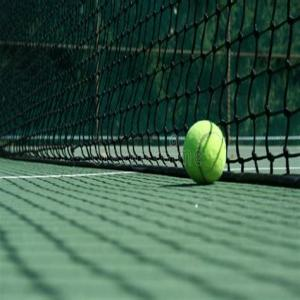Tennis: (181, 115, 228, 186)
